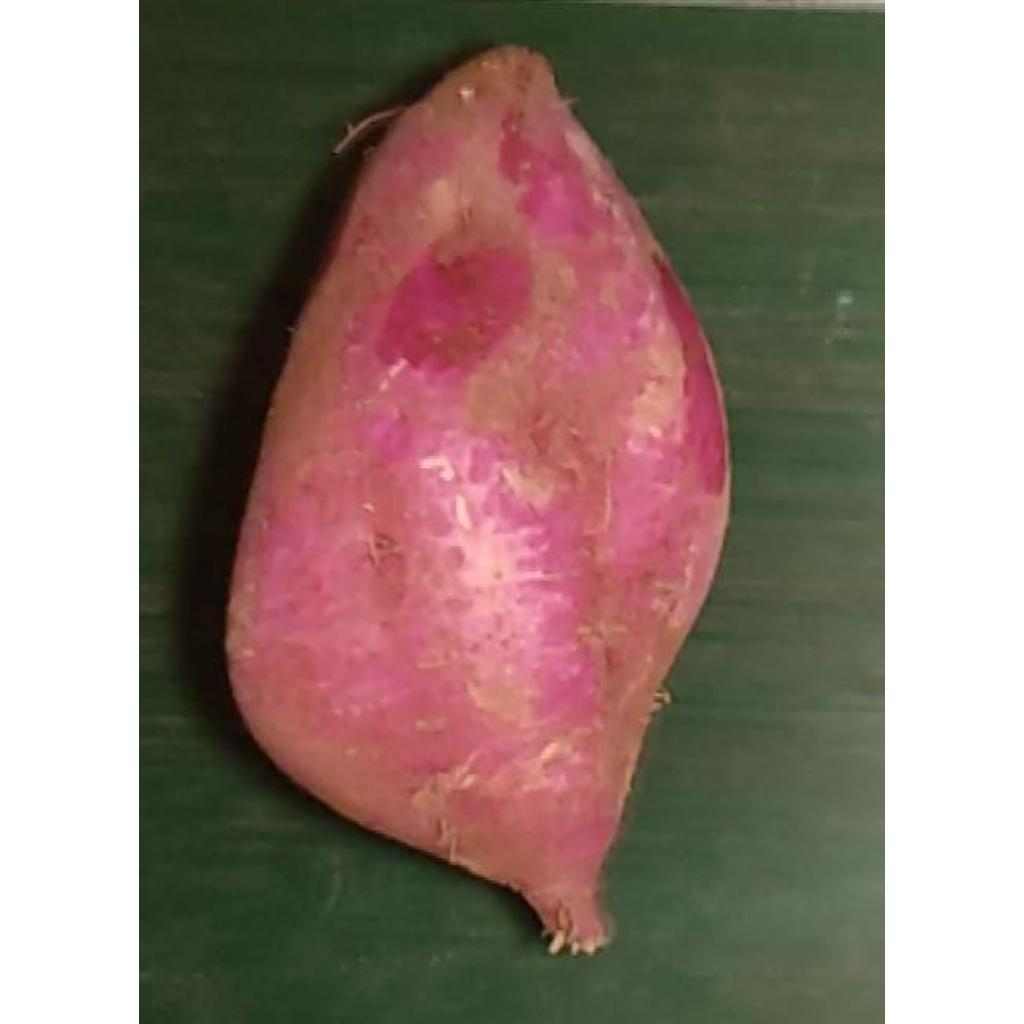Sweet Potato: (223, 45, 731, 958)
